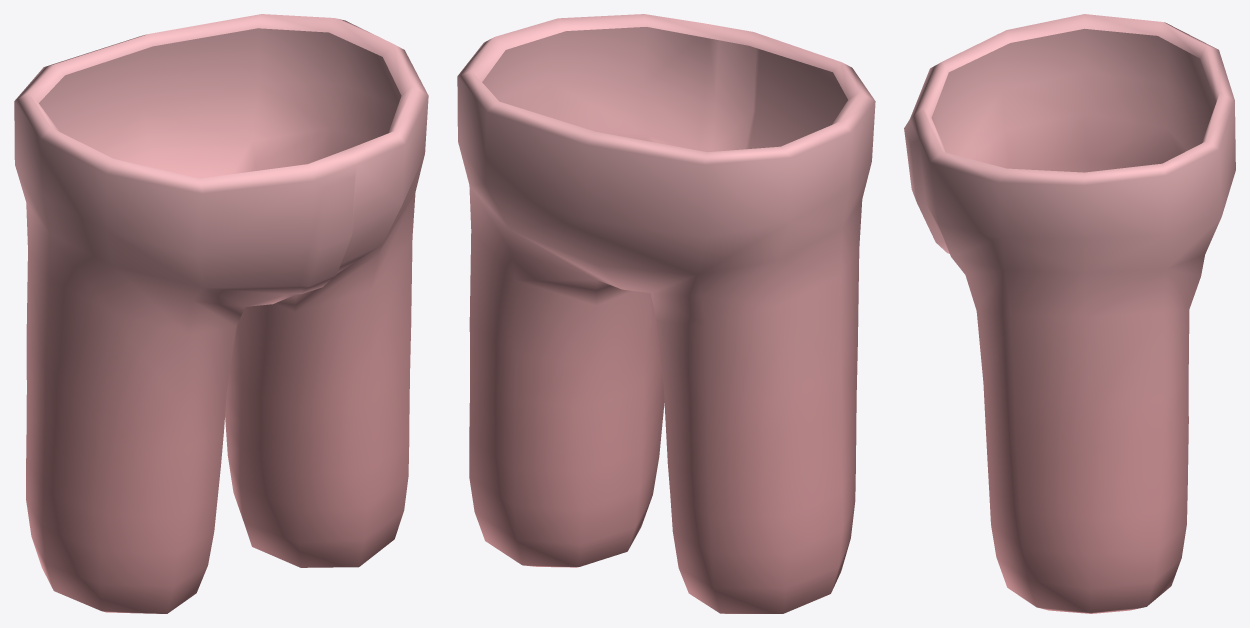
Rendered from Bottom_38.fbx.
3 views of the same model, side by side, from view 1: azimuth 30°, elevation 25°; view 2: azimuth 150°, elevation 25°; view 3: azimuth 270°, elevation 25° (orthographic). The views are drawn at different scales.
Visible parts, largest first — view 1: Bottom_38; view 2: Bottom_38; view 3: Bottom_38.
Part boxes in pixels (bbox=[...]): Bottom_38: bbox=[14, 14, 428, 613]; Bottom_38: bbox=[457, 14, 875, 613]; Bottom_38: bbox=[904, 14, 1235, 613].
Size of the model in its own units: 38.42 by 48.68 by 31.97.
